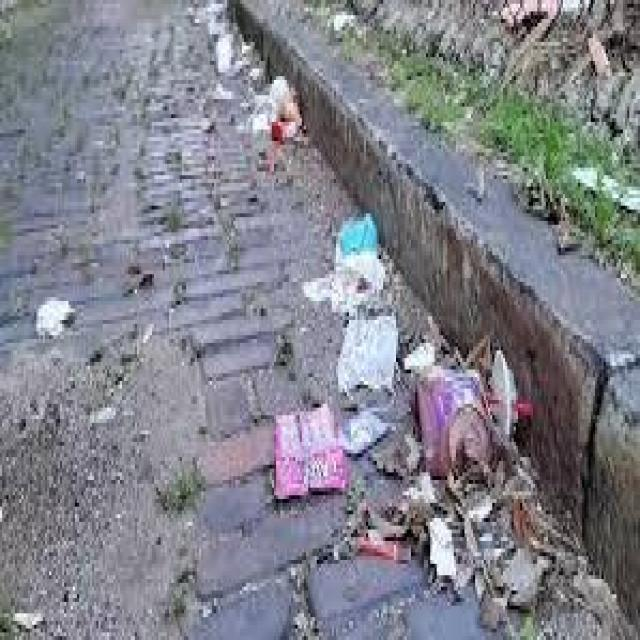curb: (312, 73, 560, 376), (481, 292, 634, 547), (236, 2, 343, 112)
